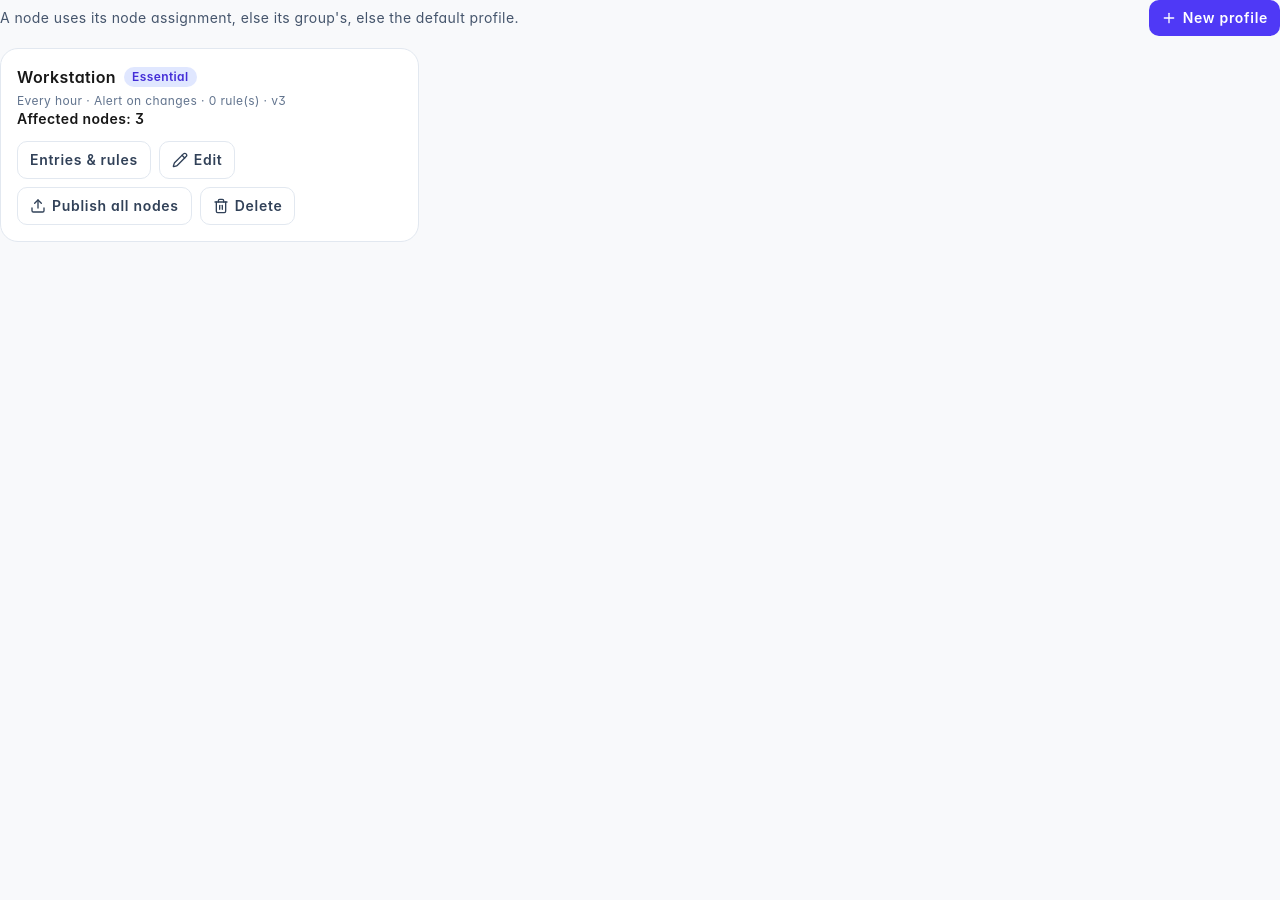
Test: ProfileEditor background publish › shows the failed hosts when the job ends
Click the button "Publish all nodes". click: (104, 206)
box: [17,187,192,225]
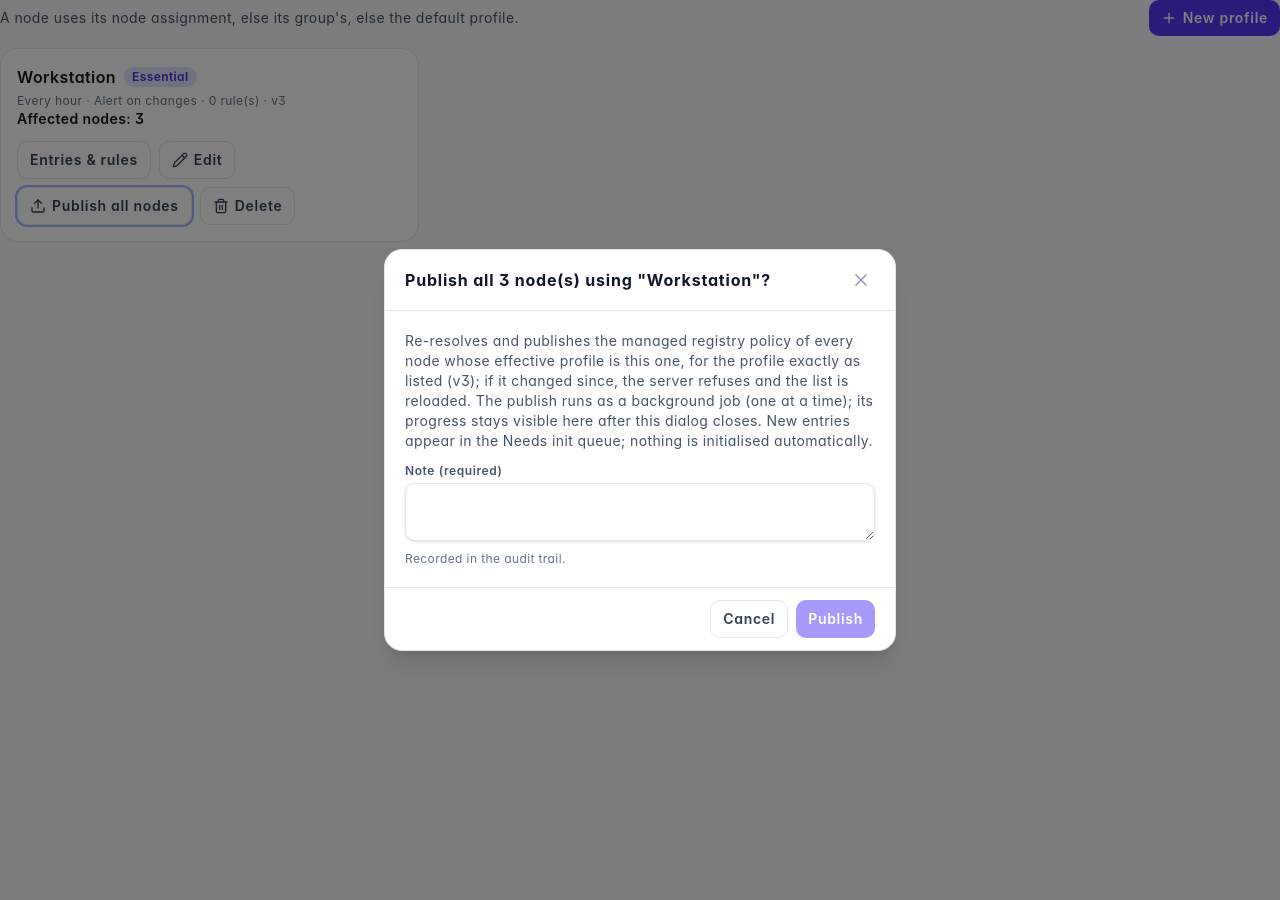
Type "CHG-1" into the text box labelled "Note (required)". click: (640, 512)
box: [405,483,875,541]
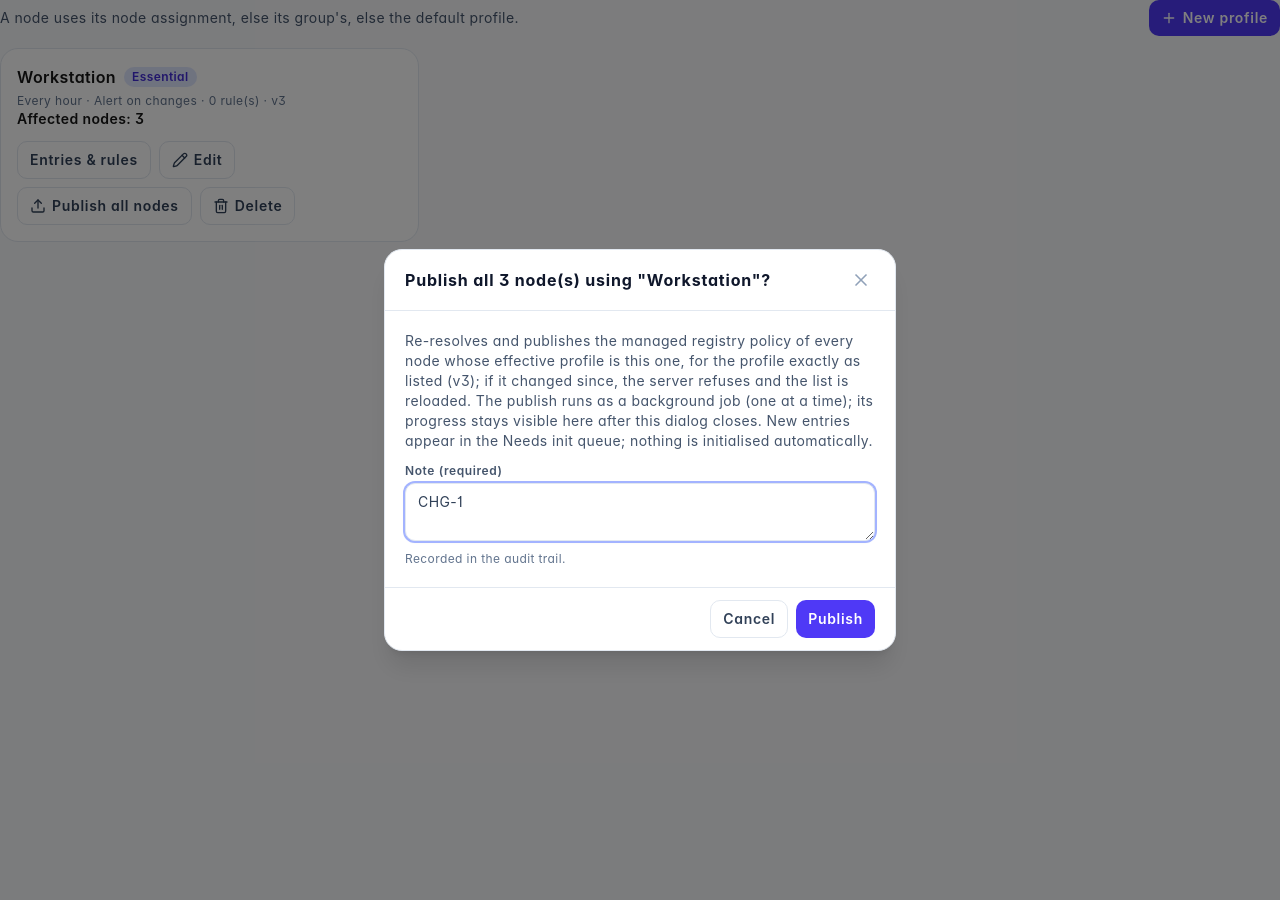
Click the button "Publish". click: (836, 619)
box: [796,600,875,638]
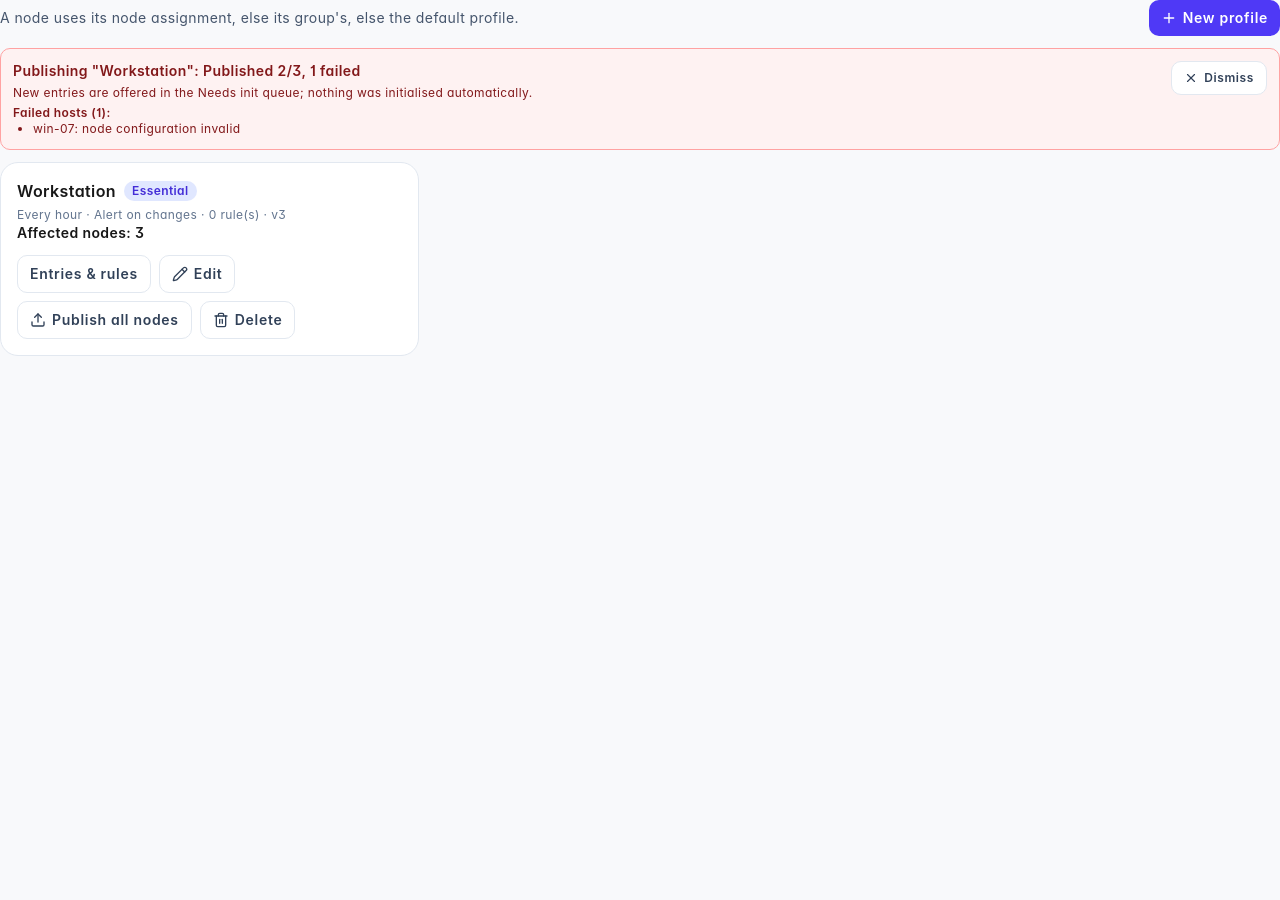
Check: the message with test id "fim-publish-job" shows "Published 2/3, 1 failed", box [203,62,361,79]
Check: the text "win-07" is shown, box [33,121,74,136]
Check: the text "node configuration invalid" is shown, box [82,121,240,136]
